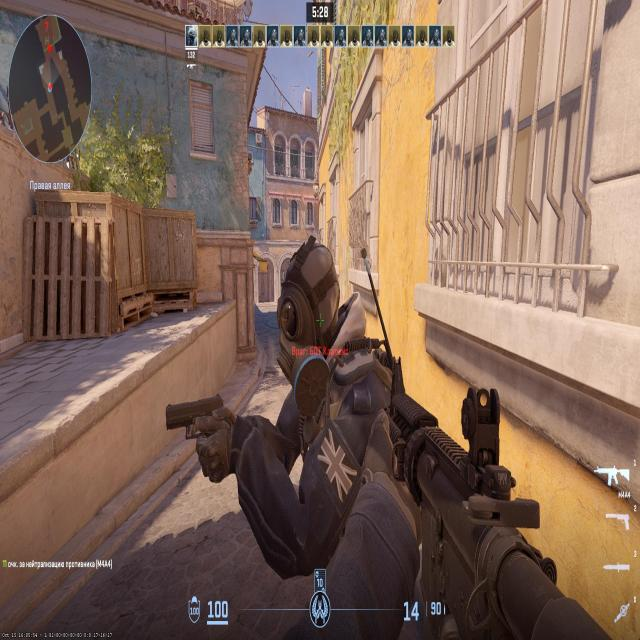CT: (288, 260, 356, 477)
CT_heat: (306, 287, 324, 335)
